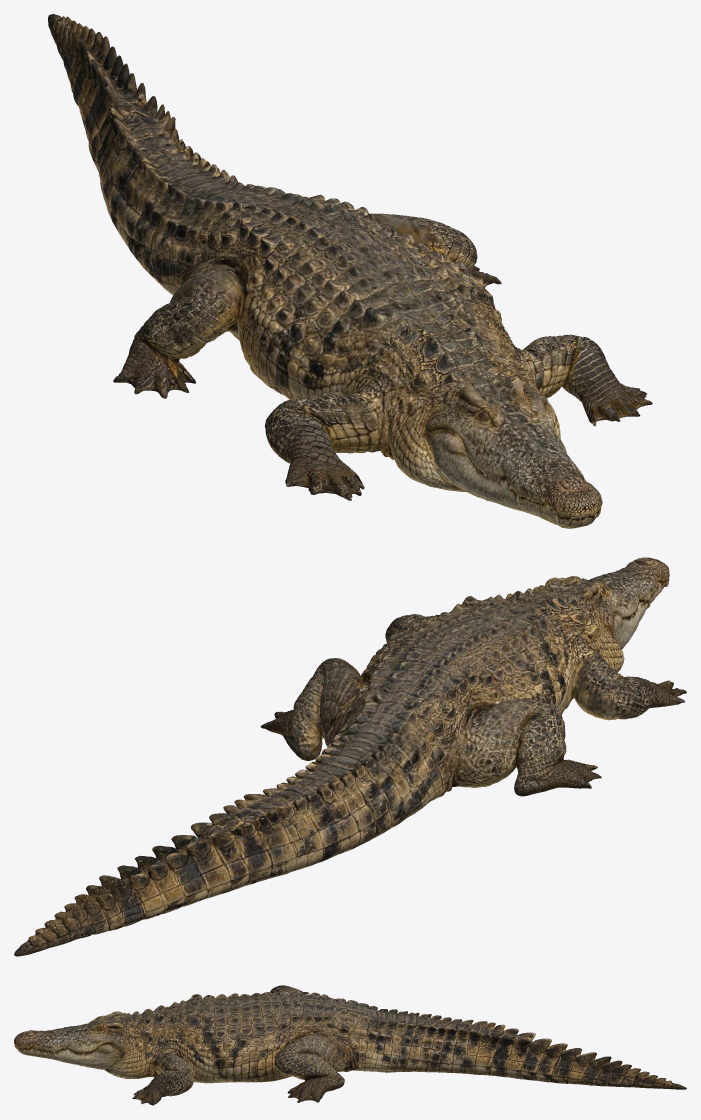
File: crocodile-living.glb
The picture shows the model from 3 angles, top to bottom: view 1: azimuth 30°, elevation 25°; view 2: azimuth 150°, elevation 25°; view 3: azimuth 270°, elevation 25°; orthographic projection. The views are drawn at different scales.
Parts seen in each view (by area): view 1: crocodile; view 2: crocodile; view 3: crocodile.
Part boxes in pixels (left/top/right/bottom): crocodile: left=48, top=14, right=652, bottom=528; crocodile: left=14, top=557, right=686, bottom=956; crocodile: left=14, top=985, right=686, bottom=1105.
Size of the model in its own units: 0.3405 by 0.1157 by 1.01.
1 material, 1 textured.
